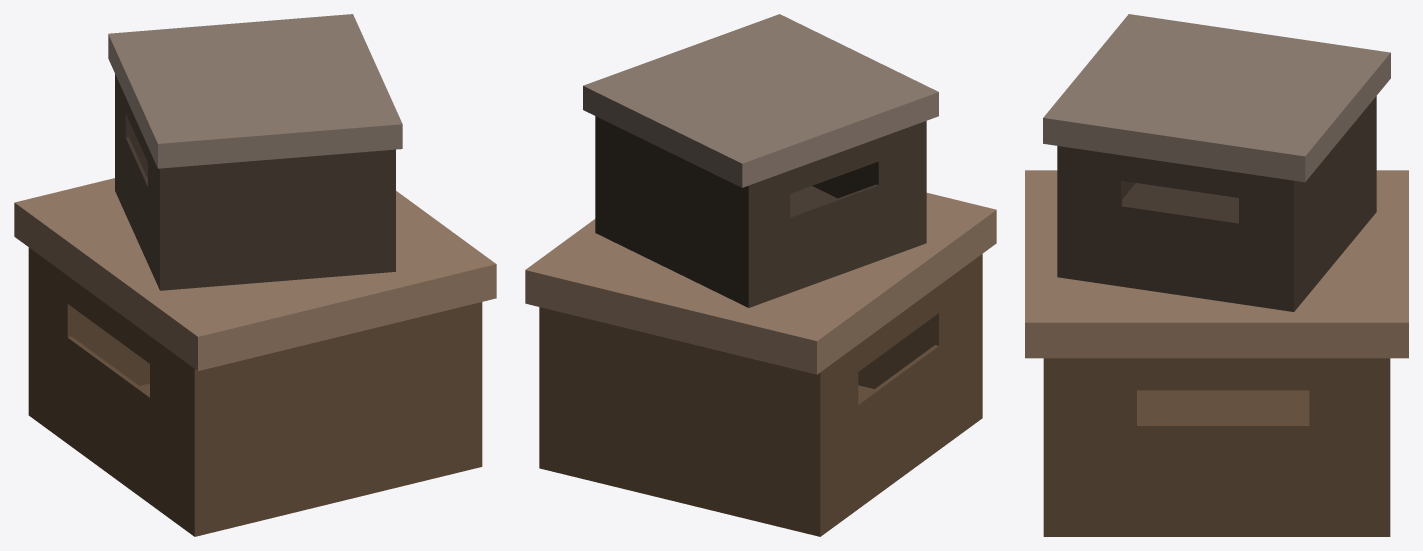
The model's file is colored boxes bedroom.fbx.
The picture shows the model from 3 angles, left to right: view 1: azimuth 30°, elevation 25°; view 2: azimuth 150°, elevation 25°; view 3: azimuth 270°, elevation 25°; orthographic projection. The views are drawn at different scales.
Parts seen in each view (by area): view 1: pCube1, pCube2, pCube3, pCube4; view 2: pCube1, pCube4, pCube3, pCube2; view 3: pCube1, pCube4, pCube3, pCube2.
Part boxes in pixels (<box>): pCube1: <box>28,247,482,536</box>; pCube2: <box>14,178,496,370</box>; pCube3: <box>108,14,402,168</box>; pCube4: <box>115,74,395,290</box>; pCube1: <box>539,254,982,536</box>; pCube4: <box>595,116,926,307</box>; pCube3: <box>583,14,938,187</box>; pCube2: <box>525,193,996,374</box>; pCube1: <box>1043,358,1390,536</box>; pCube4: <box>1057,96,1376,311</box>; pCube3: <box>1043,14,1390,182</box>; pCube2: <box>1025,170,1408,358</box>.
Size of the model in its own units: 0.9301 by 1.08 by 0.9914.
